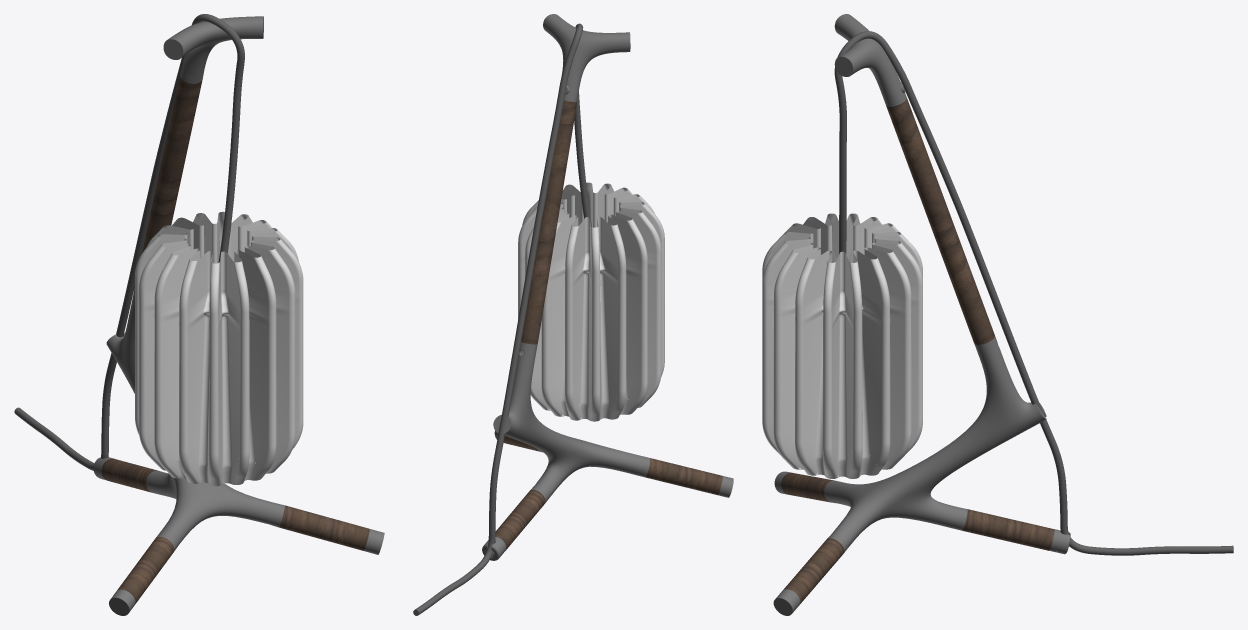
Rendered from lamp2.glb.
3 views of the same model, side by side, from view 1: azimuth 30°, elevation 25°; view 2: azimuth 150°, elevation 25°; view 3: azimuth 270°, elevation 25° (orthographic). The views are drawn at different scales.
Parts seen in each view (by area): view 1: Light.001, Nylon, Wood, Assembled Model; view 2: Light.001, Nylon, Wood, Assembled Model; view 3: Light.001, Nylon, Wood, Assembled Model.
Part boxes in pixels (x1,y1,x2,y2): Light.001: (135, 211, 303, 486); Nylon: (93, 16, 384, 615); Wood: (101, 74, 369, 604); Assembled Model: (14, 14, 244, 470); Light.001: (518, 182, 664, 421); Nylon: (482, 14, 733, 560); Wood: (495, 100, 722, 549); Assembled Model: (413, 23, 591, 615); Light.001: (762, 213, 922, 478); Nylon: (773, 14, 1070, 615); Wood: (781, 98, 1054, 603); Assembled Model: (834, 31, 1233, 555).
Size of the model in its own units: 0.2608 by 0.4932 by 0.4018.
4 materials, 1 textured.
